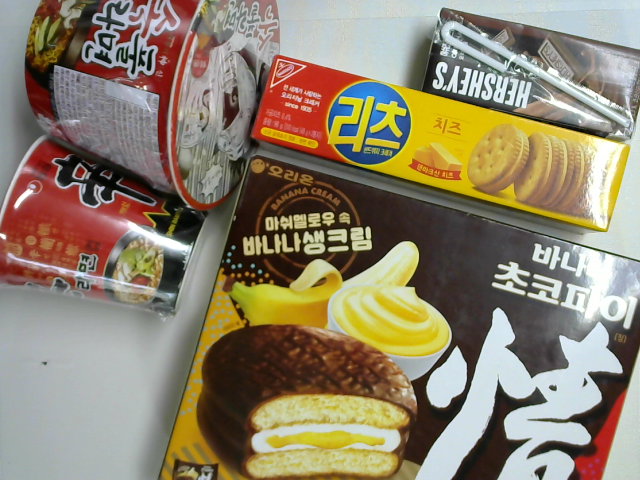Choco_Pie_Banana: (155, 150, 640, 480)
Hejangpul: (22, 1, 284, 212)
Hush_Choco_Drink: (418, 5, 640, 142)
Ritz_Sand_Cracker: (246, 53, 634, 235)
Sinramen_small: (1, 131, 212, 319)
